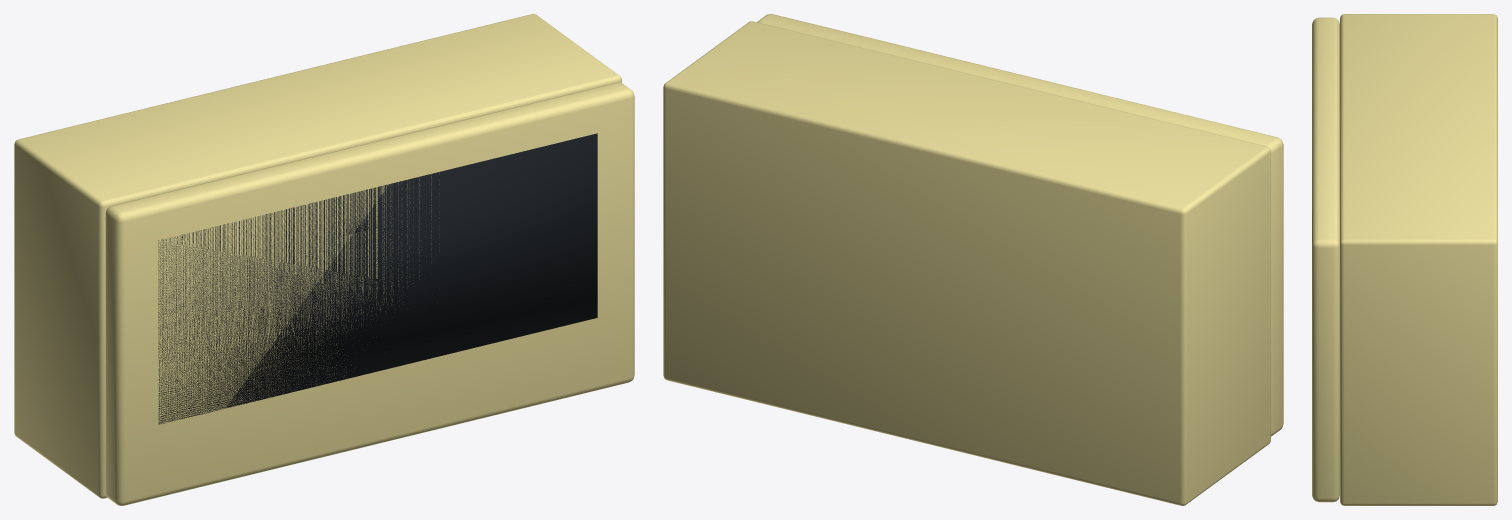
3 views of the same model, side by side, from view 1: azimuth 30°, elevation 25°; view 2: azimuth 150°, elevation 25°; view 3: azimuth 270°, elevation 25° (orthographic). The views are drawn at different scales.
Parts seen in each view (by area): view 1: L023L1P42; view 2: L023L1P42; view 3: L023L1P42.
Boxes of the visible parts, x1,y1,x2,y2 form: L023L1P42: [14, 14, 634, 505]; L023L1P42: [663, 14, 1283, 505]; L023L1P42: [1312, 14, 1497, 505].
Size of the model in its own units: 0.48 by 0.261 by 0.165.
